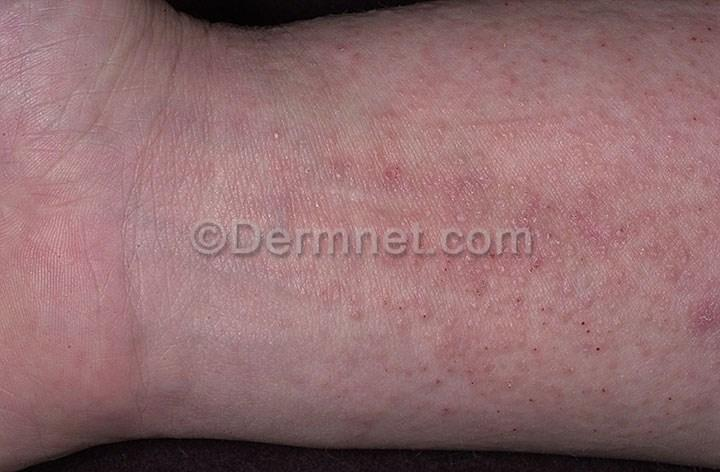eritema 1: (282, 94, 714, 447)
exudacion 1: (351, 234, 688, 441)
